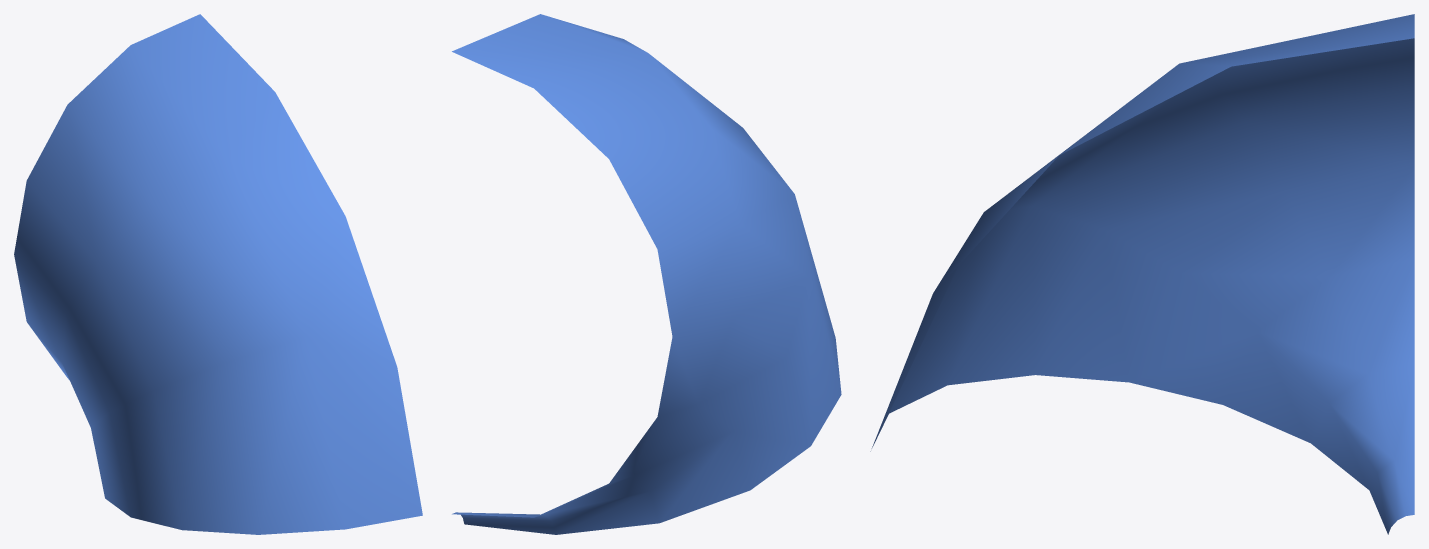
Rendered from original-11.obj.
The picture shows the model from 3 angles, left to right: view 1: azimuth 30°, elevation 25°; view 2: azimuth 150°, elevation 25°; view 3: azimuth 270°, elevation 25°; orthographic projection. The views are drawn at different scales.
Visible parts, largest first — view 1: Group11/mesh11/mesh11-geometry#mesh11-geometry; view 2: Group11/mesh11/mesh11-geometry#mesh11-geometry; view 3: Group11/mesh11/mesh11-geometry#mesh11-geometry.
Part boxes in pixels (<box>): Group11/mesh11/mesh11-geometry#mesh11-geometry: <box>14,14,422,534</box>; Group11/mesh11/mesh11-geometry#mesh11-geometry: <box>452,14,841,534</box>; Group11/mesh11/mesh11-geometry#mesh11-geometry: <box>870,14,1414,534</box>.
Size of the model in its own units: 0.1213 by 0.2529 by 0.2512.
